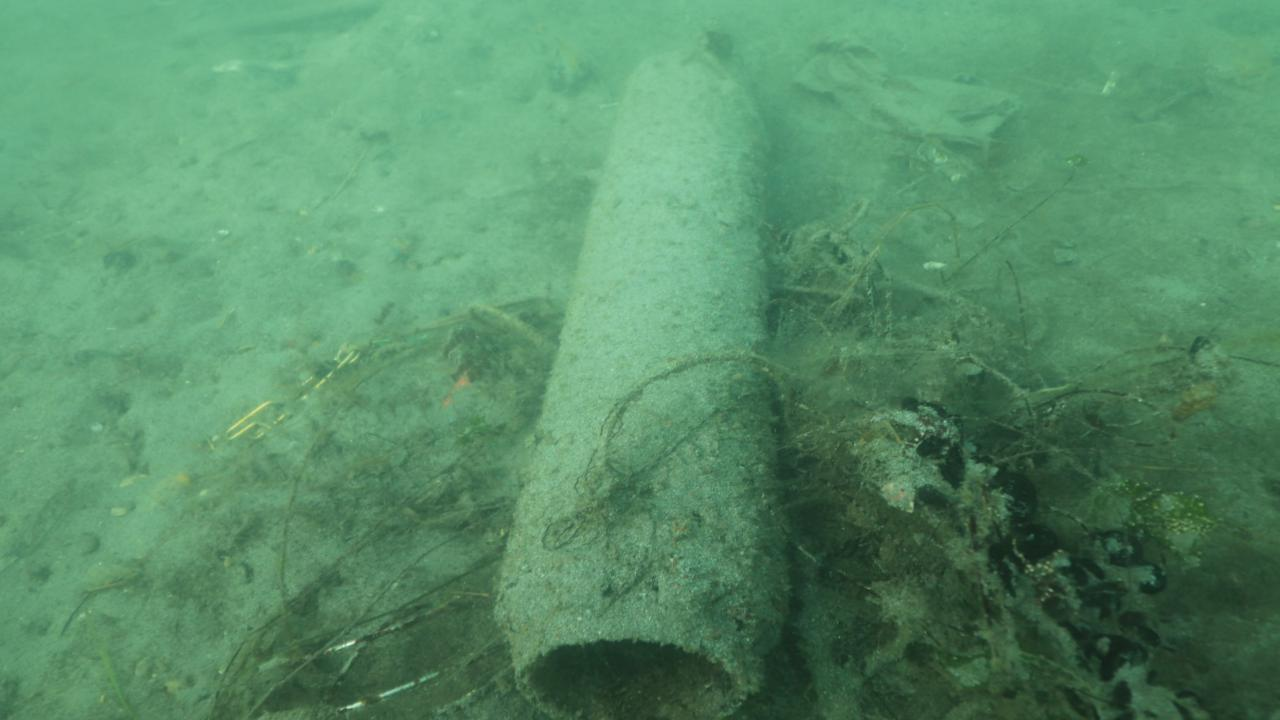eel fish trap: (490, 45, 797, 720)
